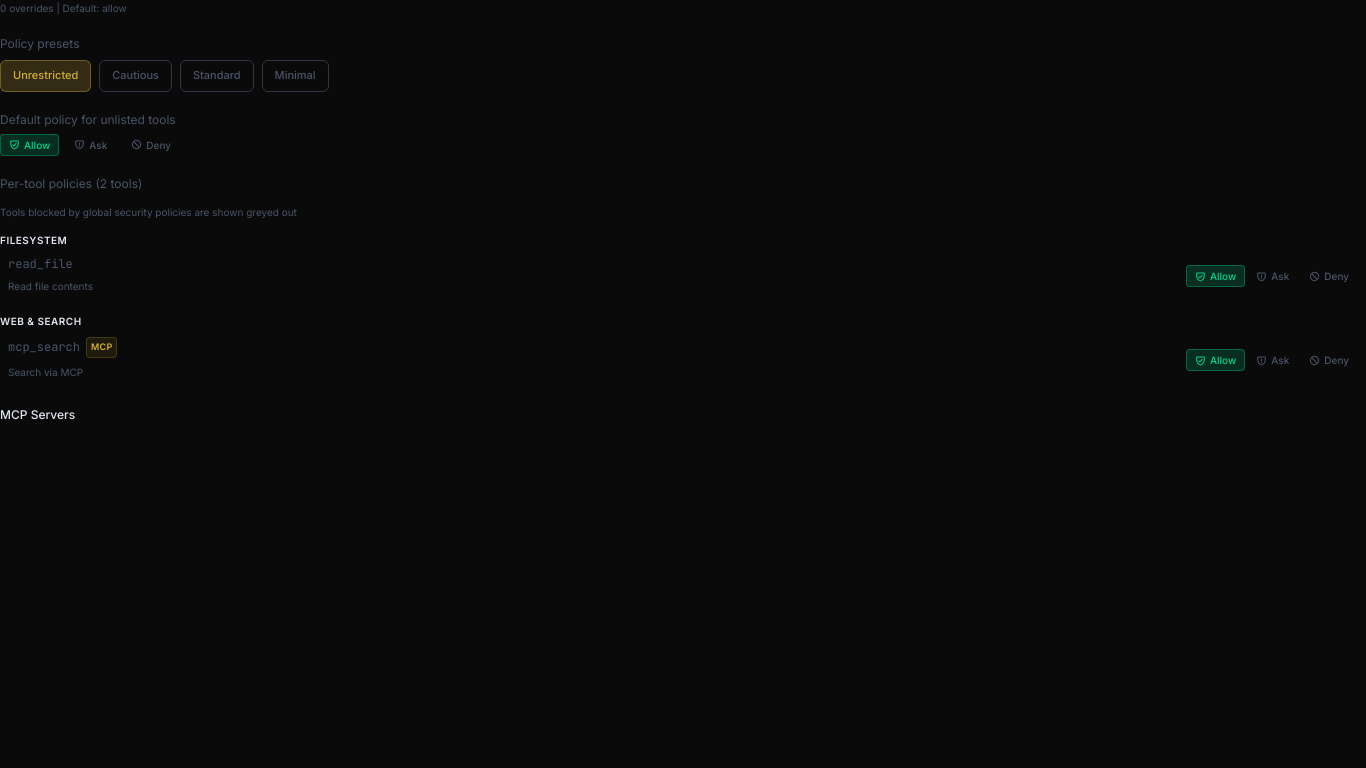
it: ToolsAndPermissions — preset confirmation dialog (FR-043, FR-044) › cancels without applying when Cancel is clicked
The image size is (1366, 768).
Click the button "Minimal": click(295, 76) [262,60,329,92]
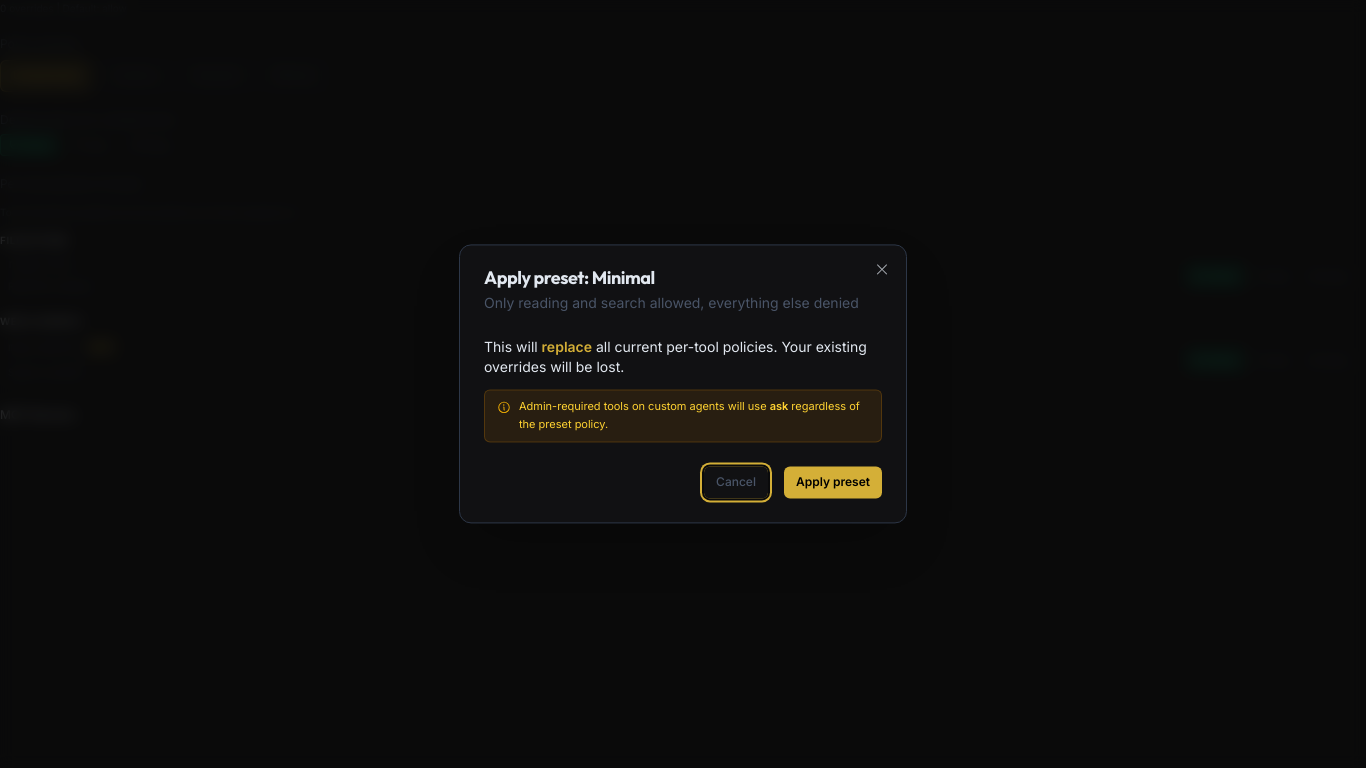
Check: the button "Cancel" is shown
Click the button "Cancel": click(736, 483) [704,467,768,499]
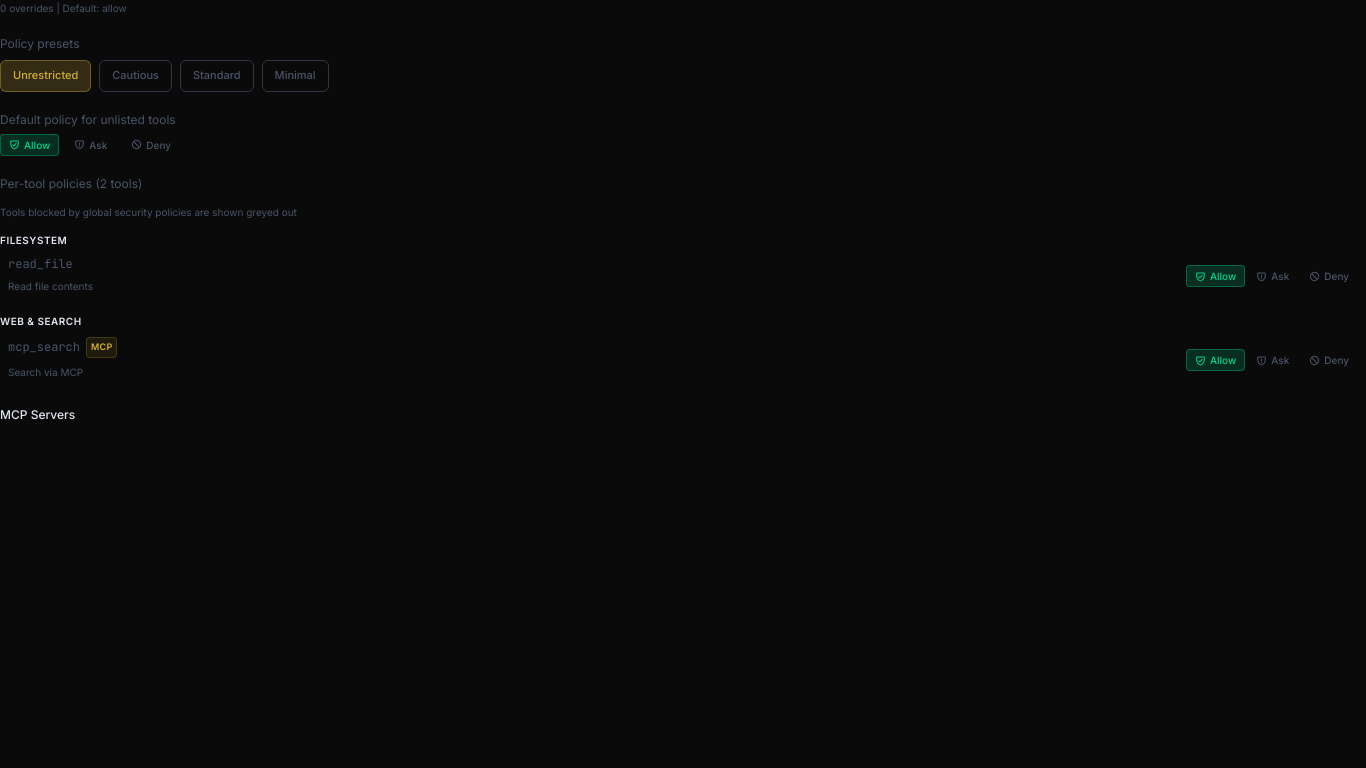
Check: the heading "Apply preset: Minimal" is gone
